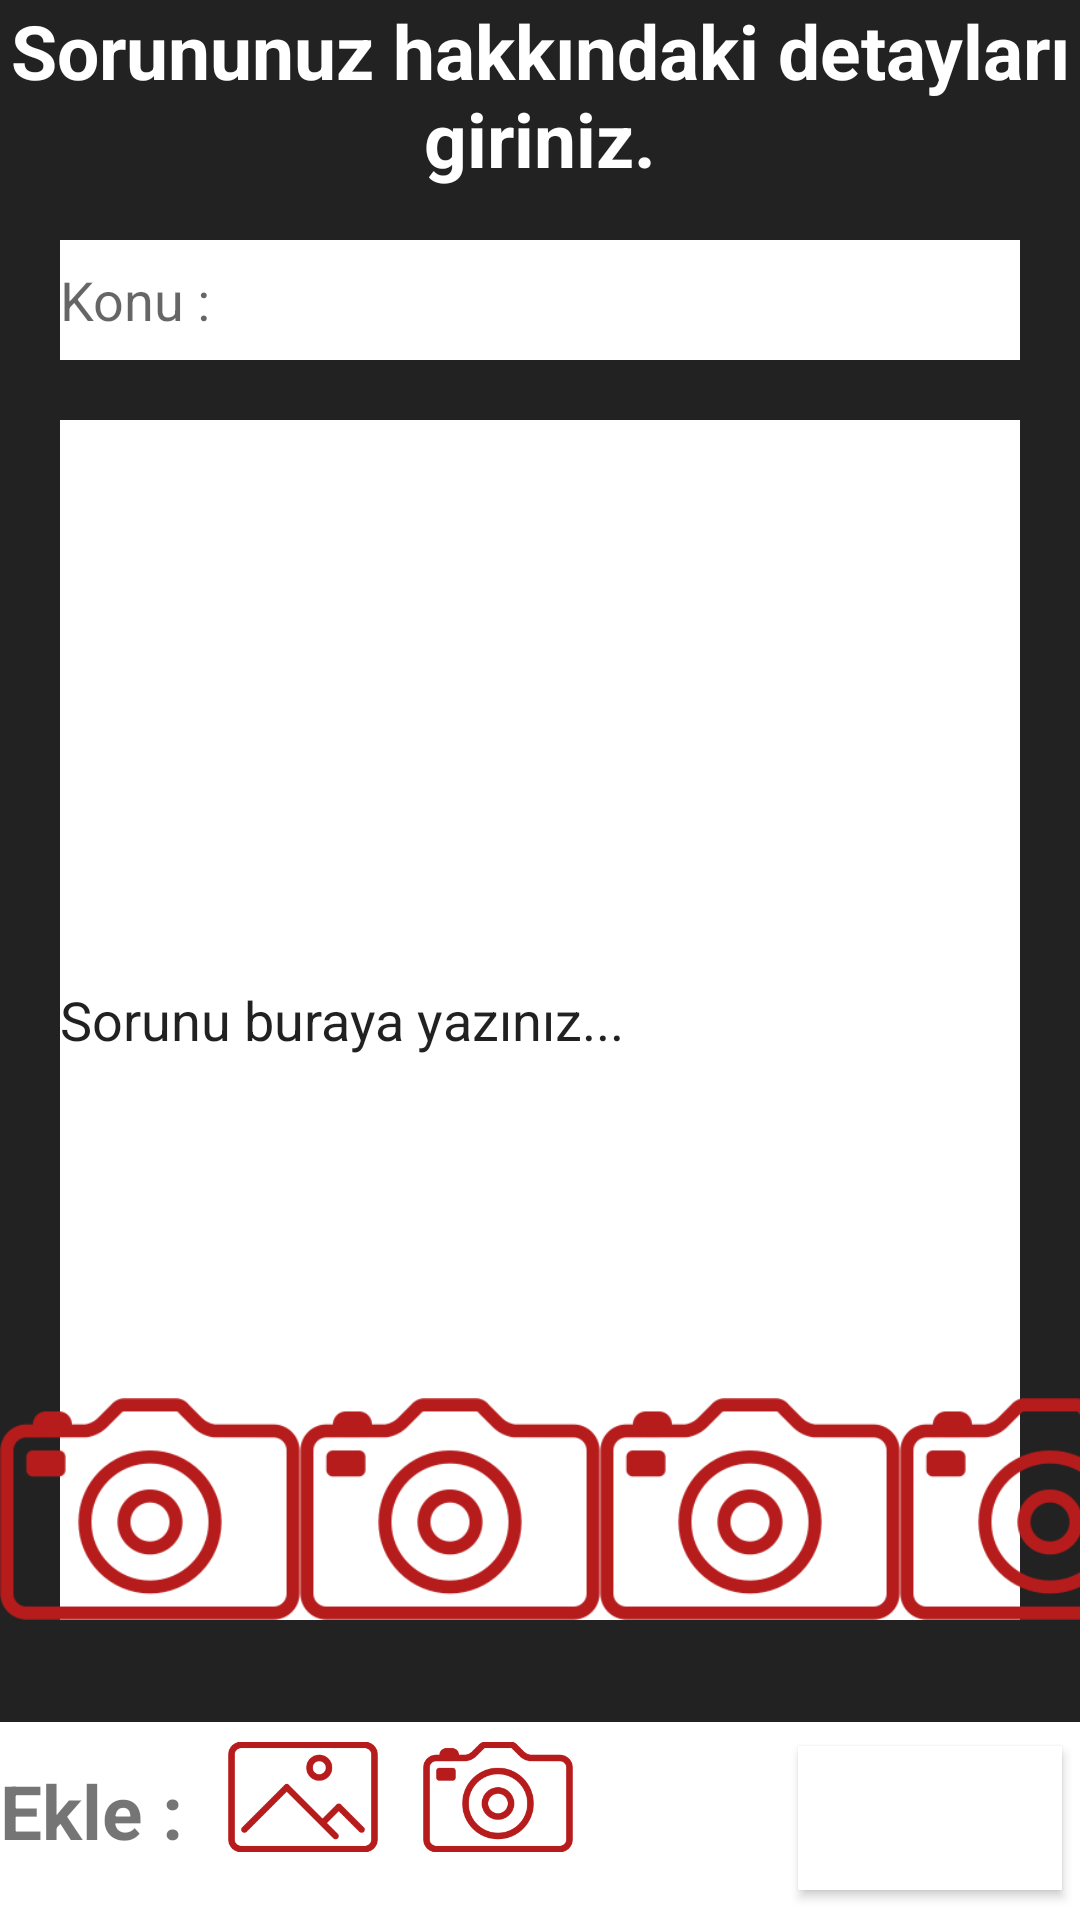

Named icons in this screenshot (1080 × 1920) and their centers, (x,y):
gorsel: (303,1797)
